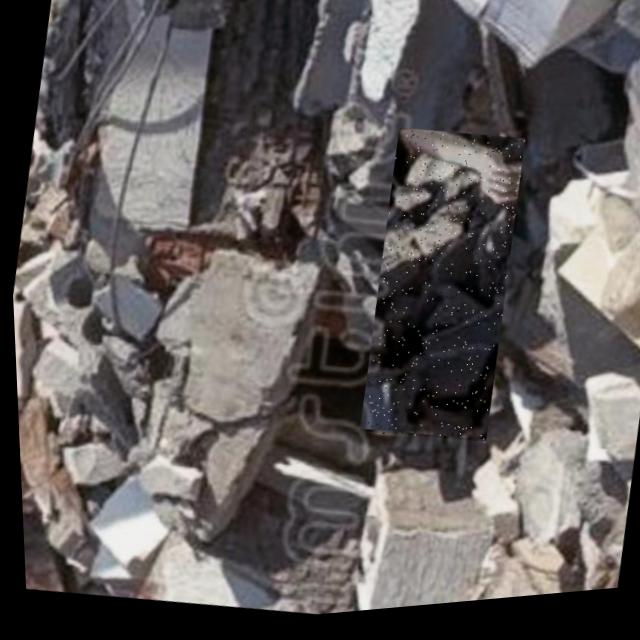Person in Rubble: (344, 125, 533, 459)
